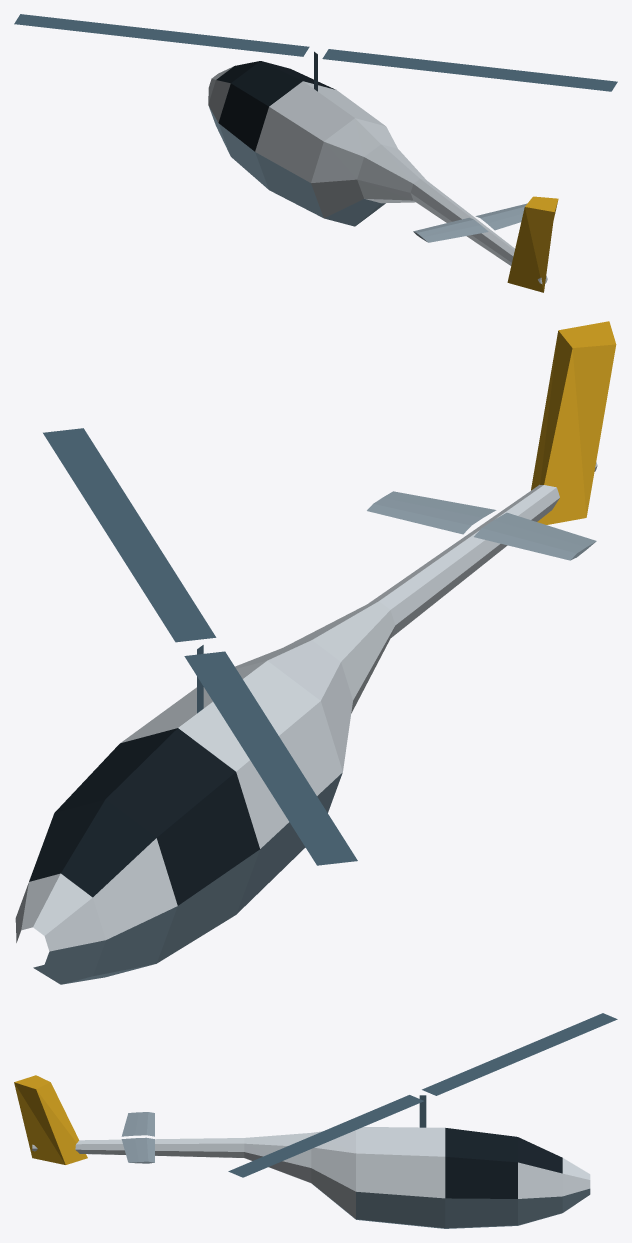
File: plain-heli.glb
3 views of the same model, one above another, from view 1: azimuth 30°, elevation 25°; view 2: azimuth 150°, elevation 25°; view 3: azimuth 270°, elevation 25° (orthographic). The views are drawn at different scales.
Parts seen in each view (by area): view 1: lod0; view 2: lod0; view 3: lod0.
Part boxes in pixels (box(x1,y1,x2,y2)): lod0: box(14, 14, 617, 292); lod0: box(15, 321, 616, 984); lod0: box(14, 1013, 617, 1228).
Size of what is drawn, in the model's own units: 0.6986 by 0.29 by 1.08.
